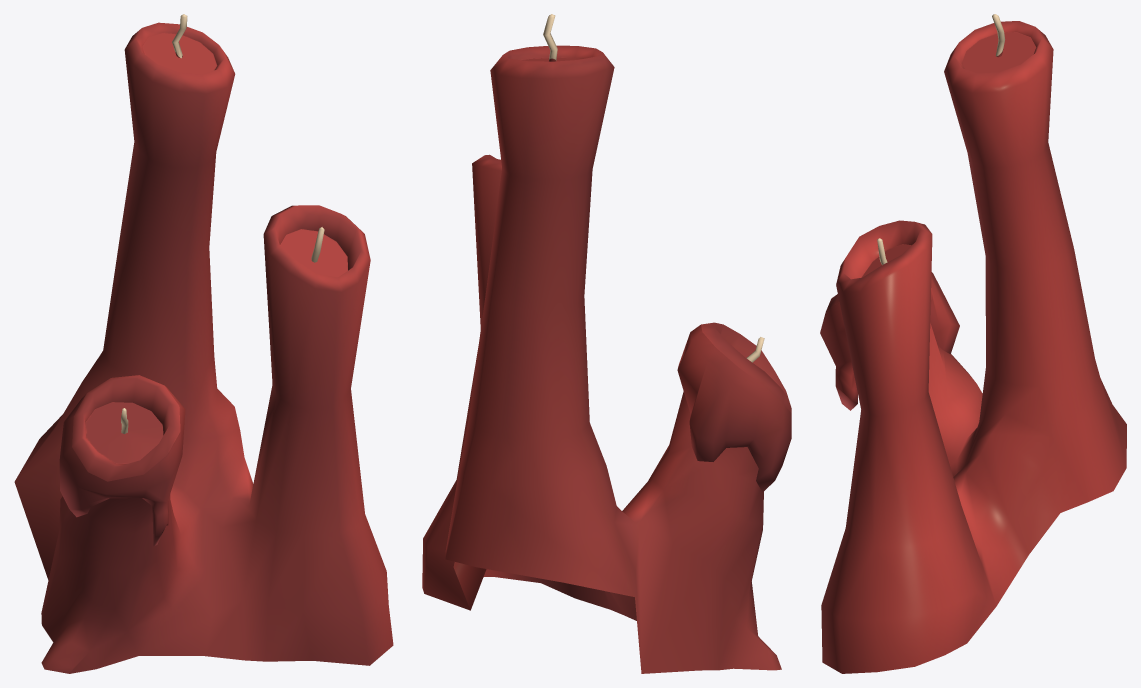
The model's file is 308_candle003_MD.fbx.
3 views of the same model, side by side, from view 1: azimuth 30°, elevation 25°; view 2: azimuth 150°, elevation 25°; view 3: azimuth 270°, elevation 25° (orthographic). The views are drawn at different scales.
Parts seen in each view (by area): view 1: Object; view 2: Object; view 3: Object.
Part boxes in pixels (box(x1,y1,x2,y2)): Object: box(14, 14, 393, 673); Object: box(422, 14, 791, 673); Object: box(820, 14, 1126, 673).
Size of the model in its own units: 18.46 by 32.77 by 15.15.
1 material, 1 textured.
